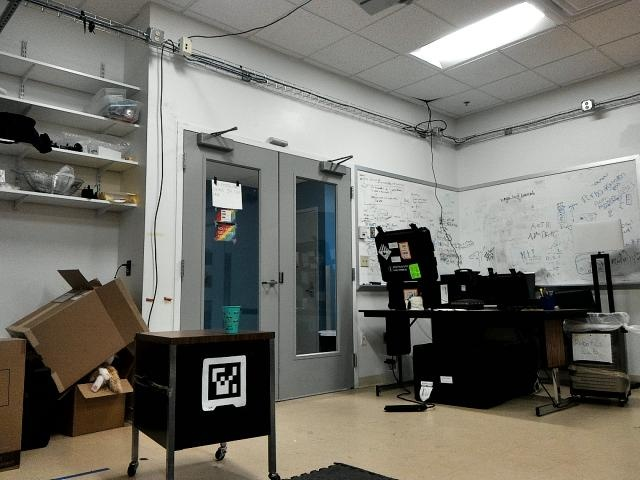coffee_cup: (219, 302, 243, 336)
